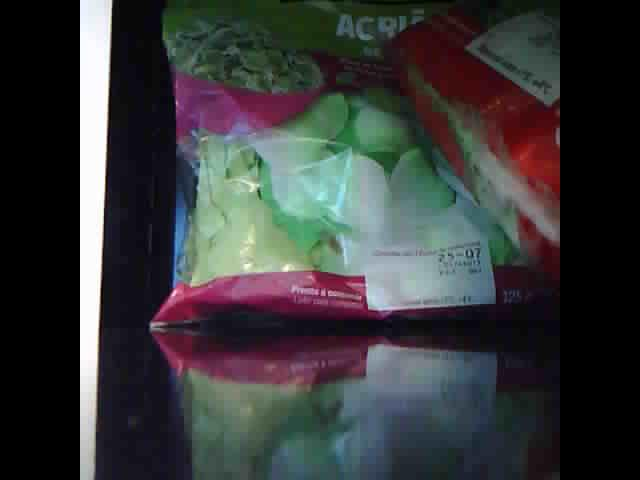florette: (148, 1, 546, 334), (380, 1, 559, 297)
